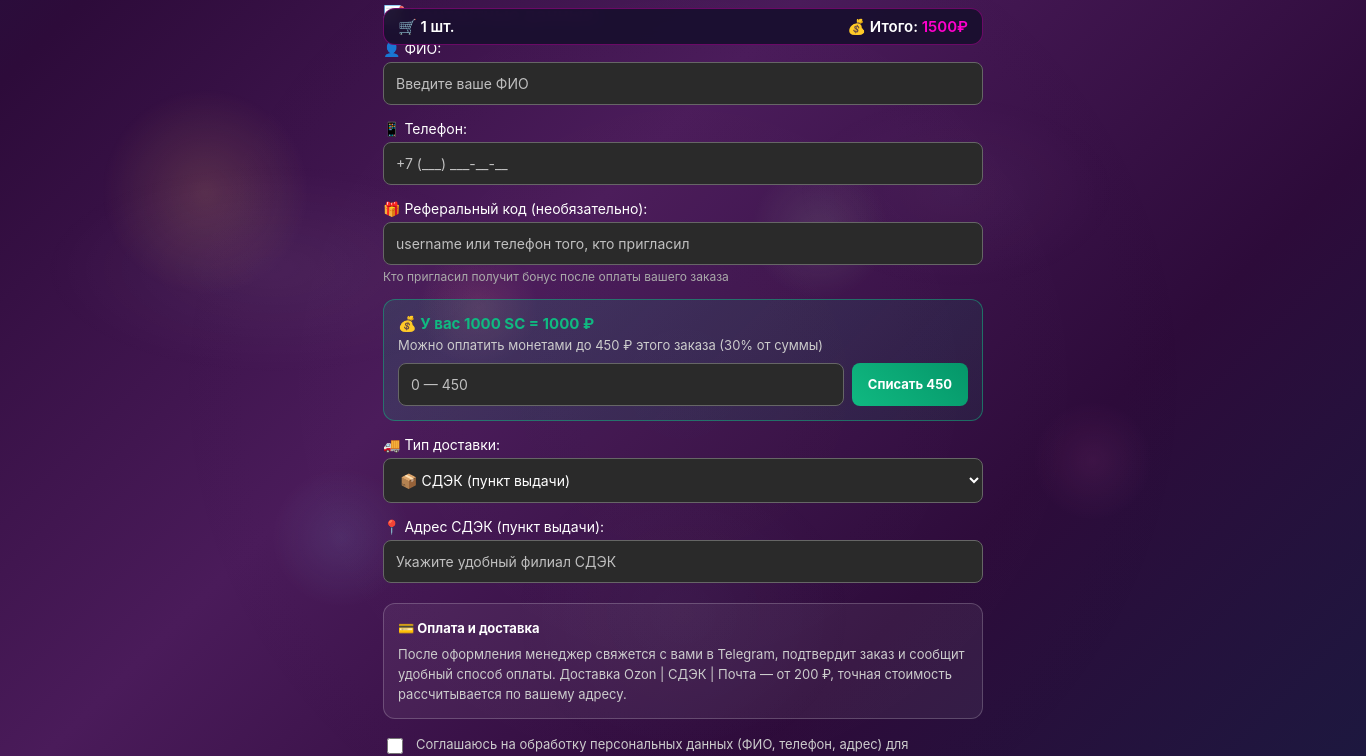
Test: списание SC считает «к оплате» уже со скидкой уровня
(page scrolled)
What coordinates should you click on to do the following:
click the button "Списать 450"
I would click on:
 (910, 384)
Its box is left=852, top=362, right=968, bottom=406.
(page scrolled)
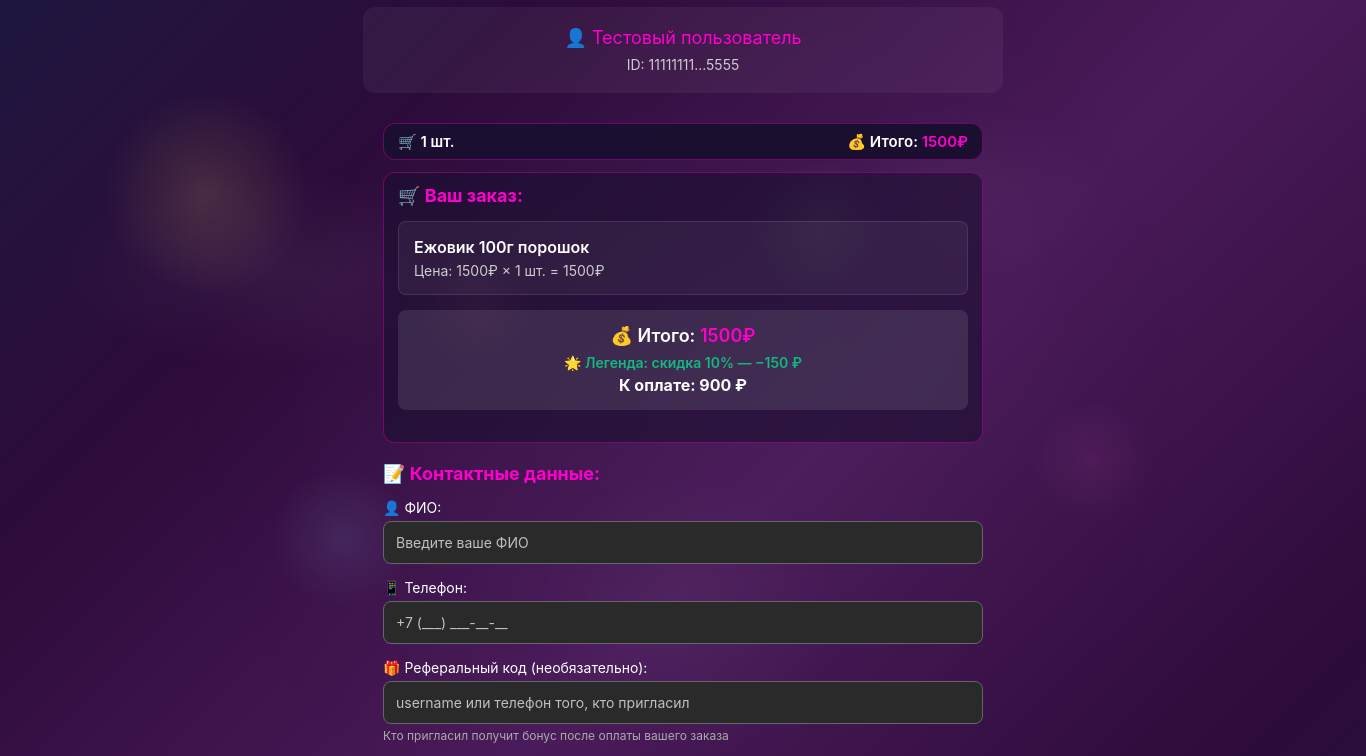
Check: the text "К оплате: 900 ₽" is shown, box left=619, top=374, right=747, bottom=394
